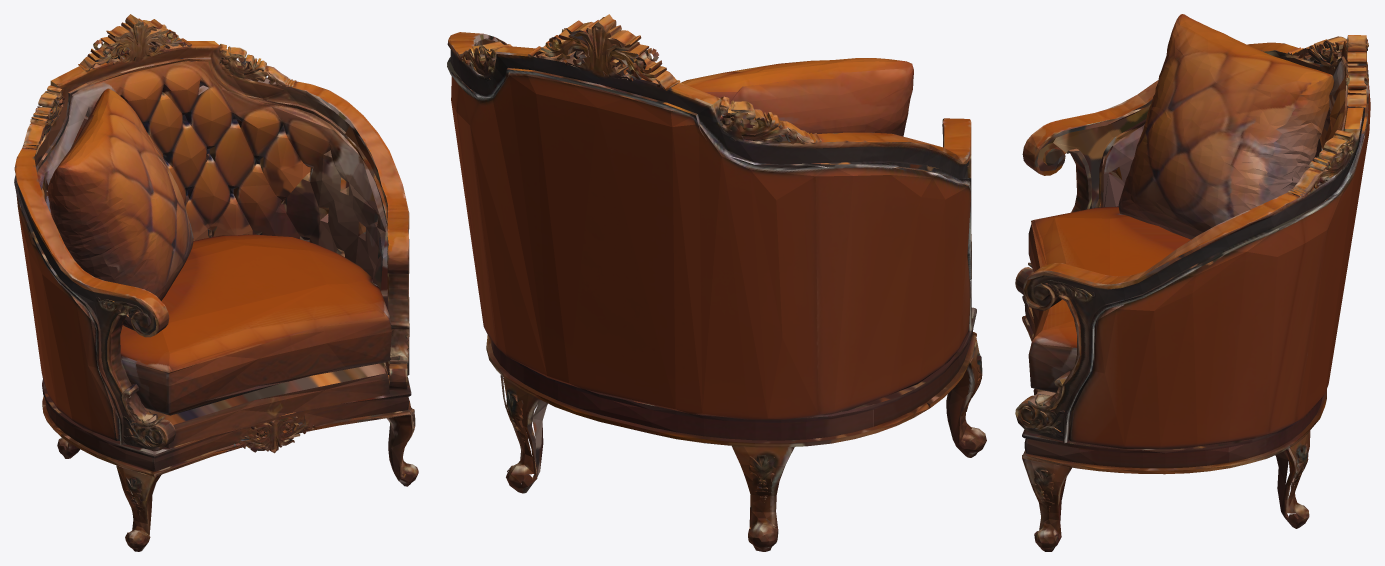
The model's file is edited_mesh.glb.
The picture shows the model from 3 angles, left to right: view 1: azimuth 30°, elevation 25°; view 2: azimuth 150°, elevation 25°; view 3: azimuth 270°, elevation 25°; orthographic projection. The views are drawn at different scales.
Visible parts, largest first — view 1: solid_001_wire; view 2: solid_001_wire; view 3: solid_001_wire.
Part boxes in pixels (x1,y1,x2,y2): solid_001_wire: (14,14,418,551); solid_001_wire: (447,14,986,551); solid_001_wire: (1015,14,1370,551).
Bounding box in the file's own units: 1.26 × 1.37 × 0.9974.
1 material, 1 textured.
